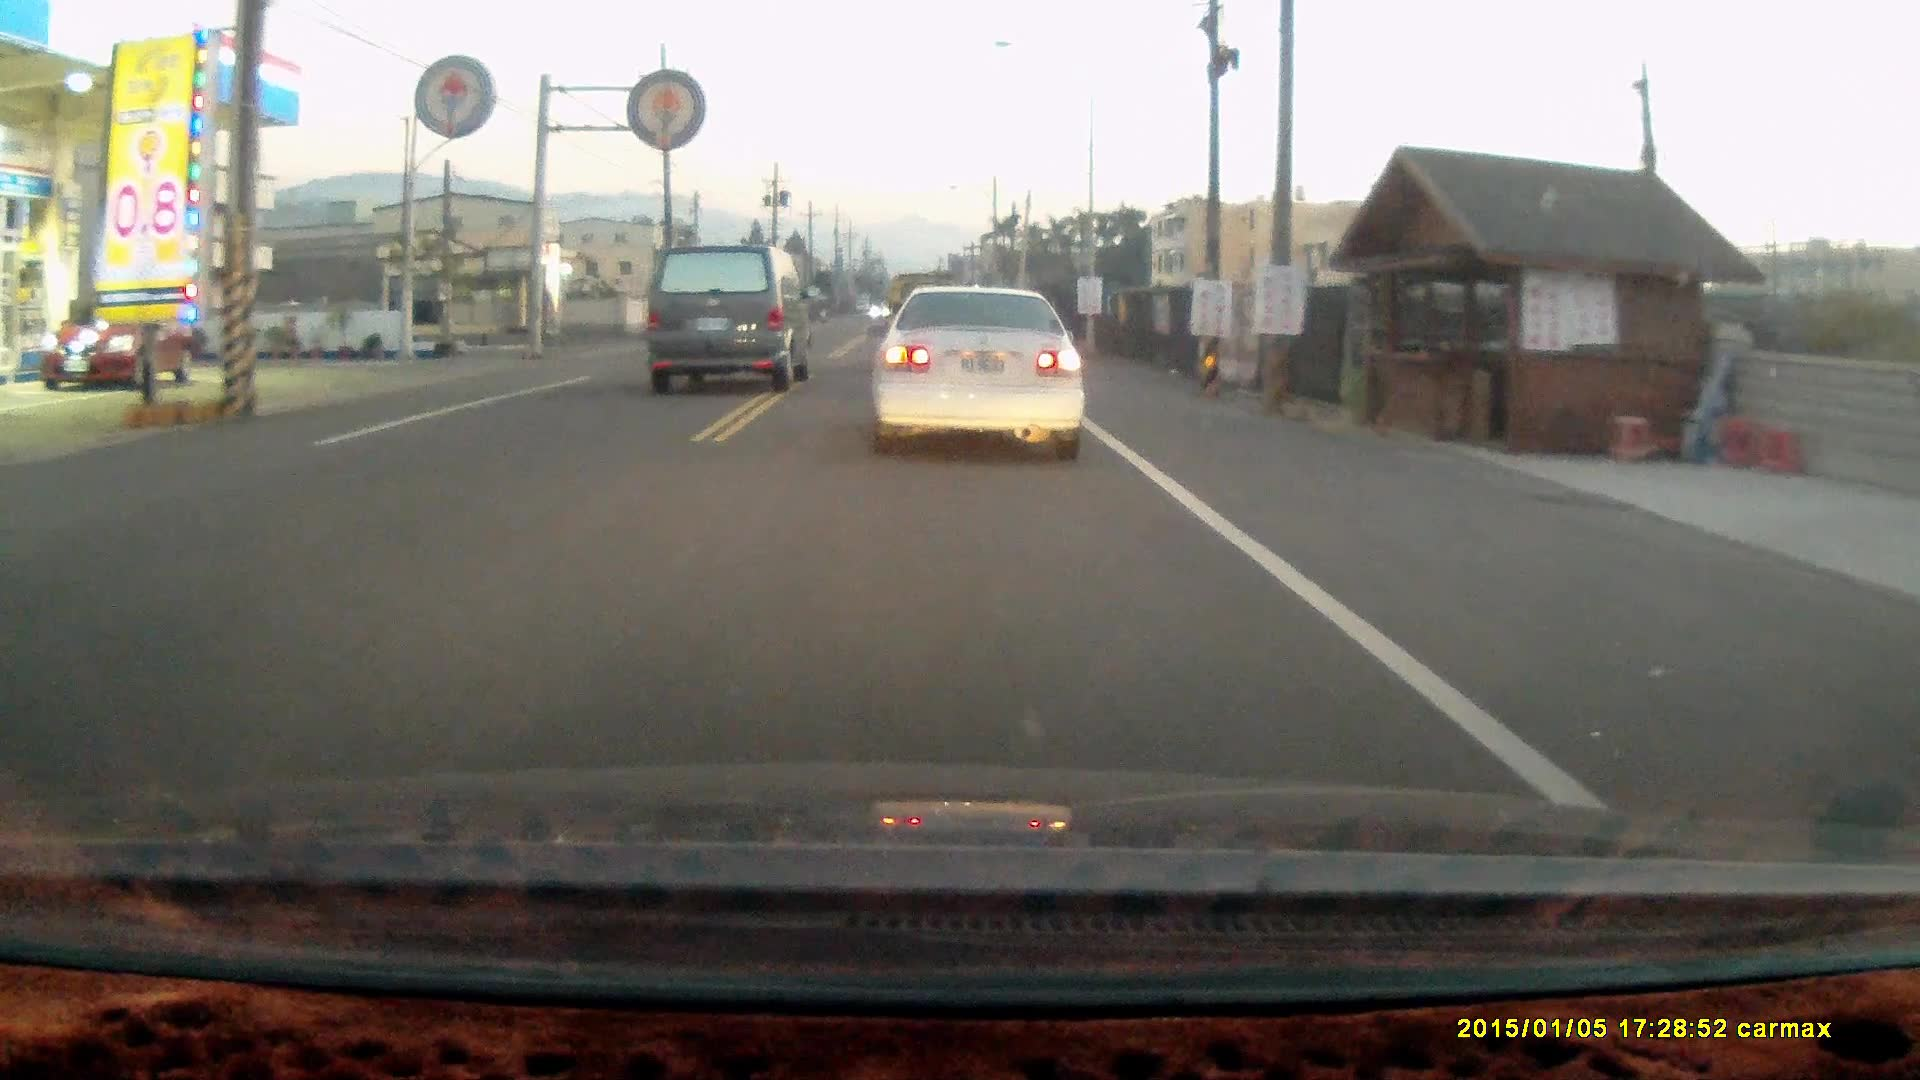vehicle: (864, 278, 1091, 462), (641, 239, 816, 389), (47, 293, 198, 393)
